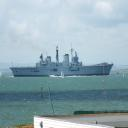Portanaves: (10, 44, 115, 79)
